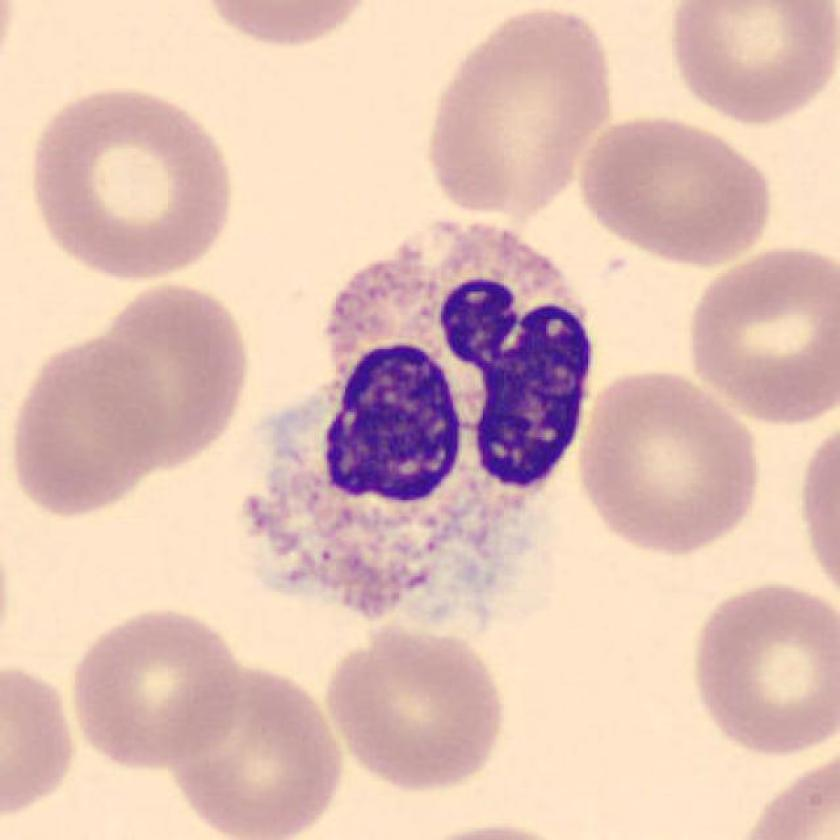neutrophil: (245, 223, 590, 623)
